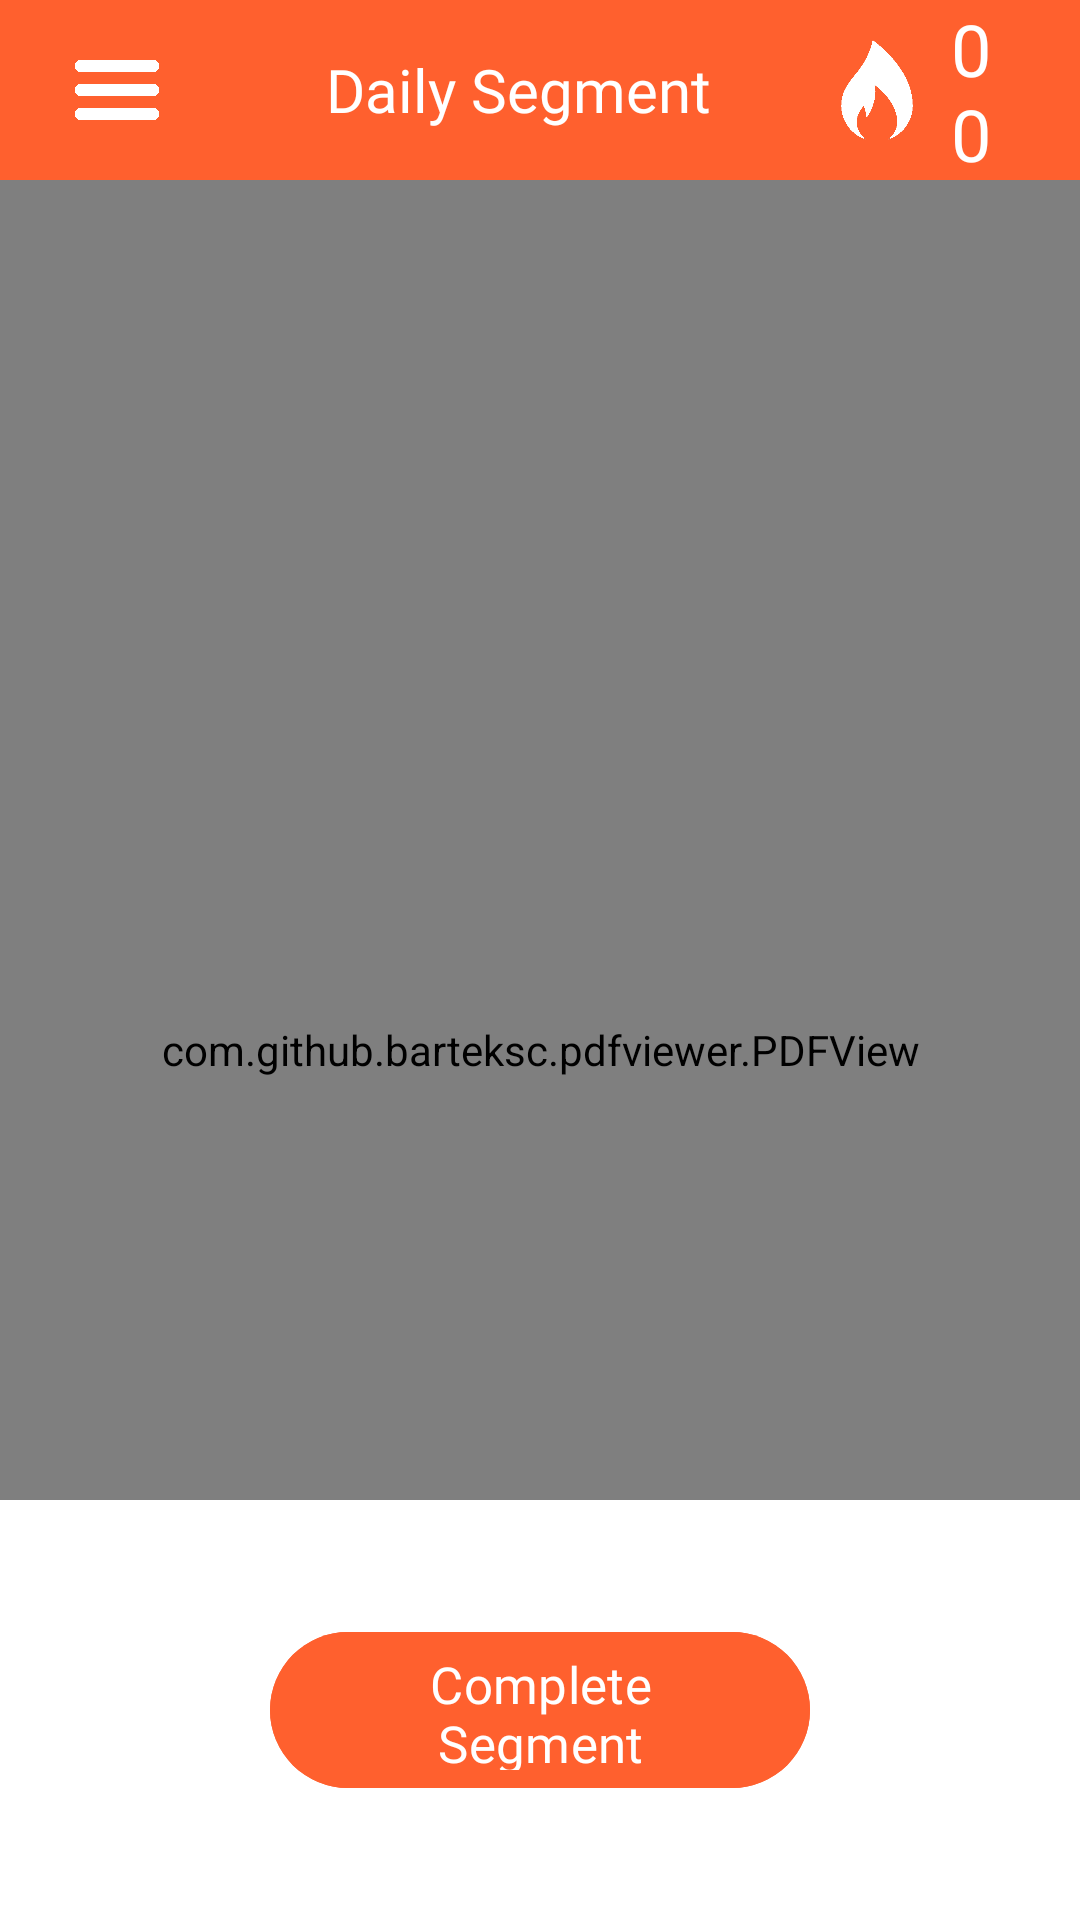

Screen size 1080px×1920px. Icon name, then its box in pixels as {"left": x1, "top": y1, "right": x2, "bottom": y2}:
hamburger: {"left": 75, "top": 60, "right": 159, "bottom": 120}
streak: {"left": 841, "top": 41, "right": 913, "bottom": 139}
